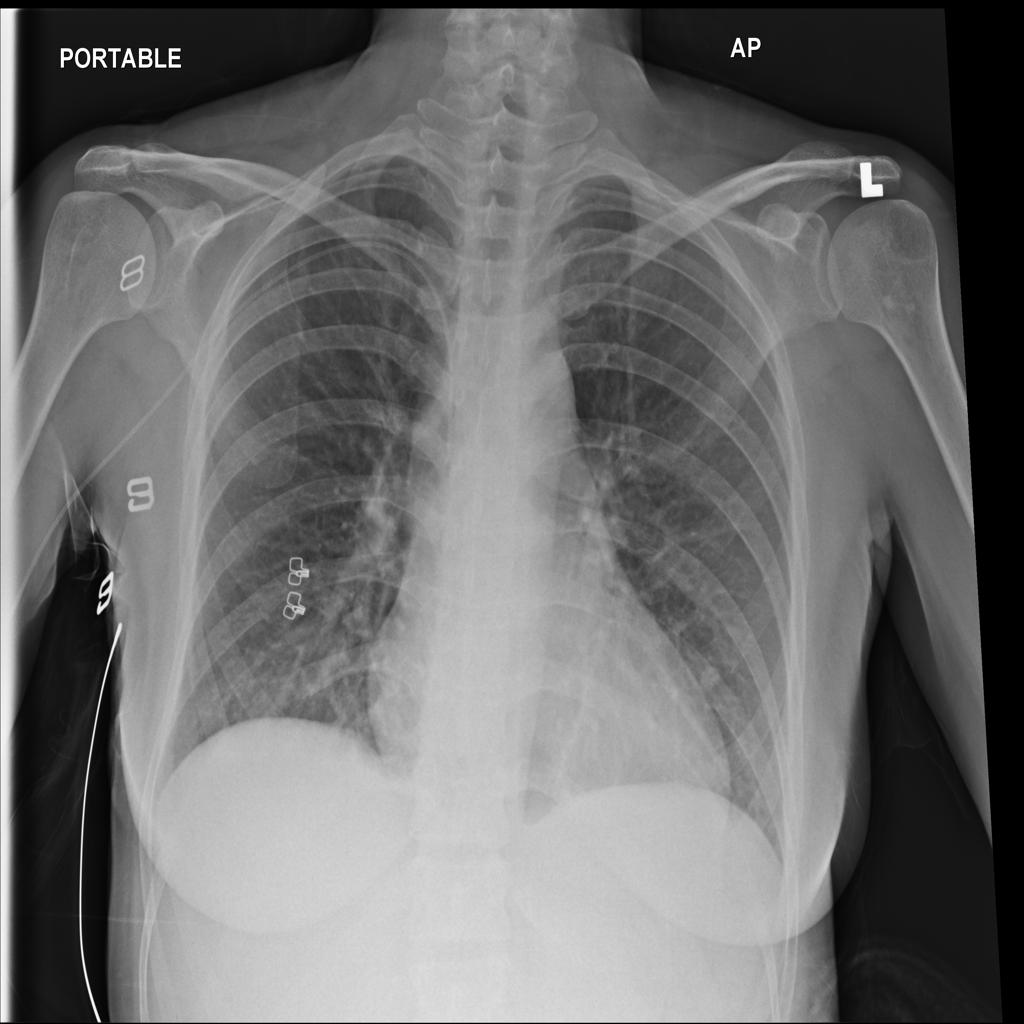nodule: (687, 648, 733, 701)
